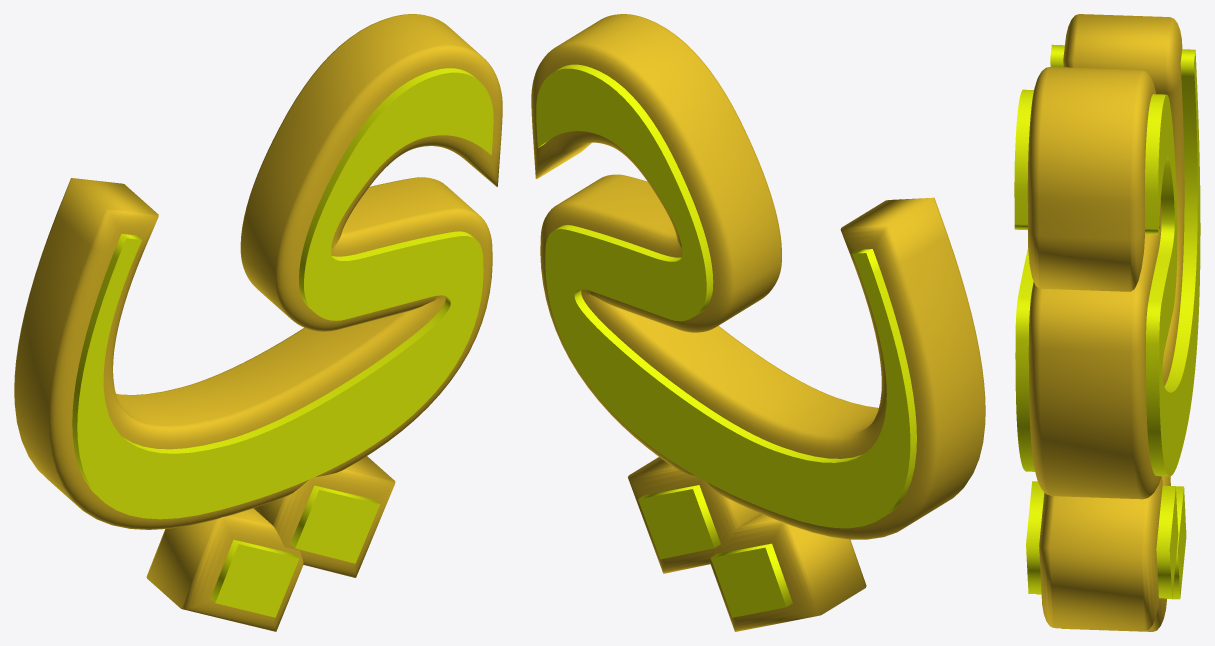
3 views of the same model, side by side, from view 1: azimuth 30°, elevation 25°; view 2: azimuth 150°, elevation 25°; view 3: azimuth 270°, elevation 25° (orthographic). The views are drawn at different scales.
Parts seen in each view (by area): view 1: text 2, Text; view 2: text 2, Text; view 3: text 2, Text.
Boxes of the visible parts, x1,y1,x2,y2 form: text 2: (14, 14, 502, 631); Text: (72, 68, 493, 617); text 2: (531, 14, 985, 631); Text: (536, 64, 916, 617); text 2: (1027, 14, 1184, 631); Text: (1014, 44, 1200, 599).
Size of the model in its own units: 49.03 by 59.13 by 15.69.
